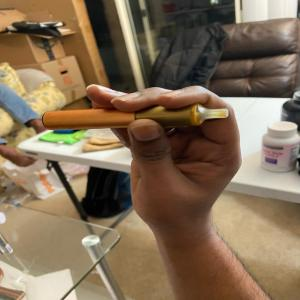Golden-E-Ciggirate: (35, 101, 234, 135)
